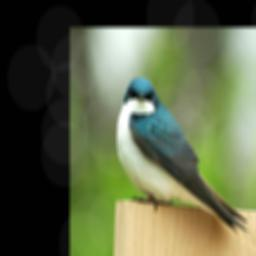Swallow: (115, 76, 251, 235)
